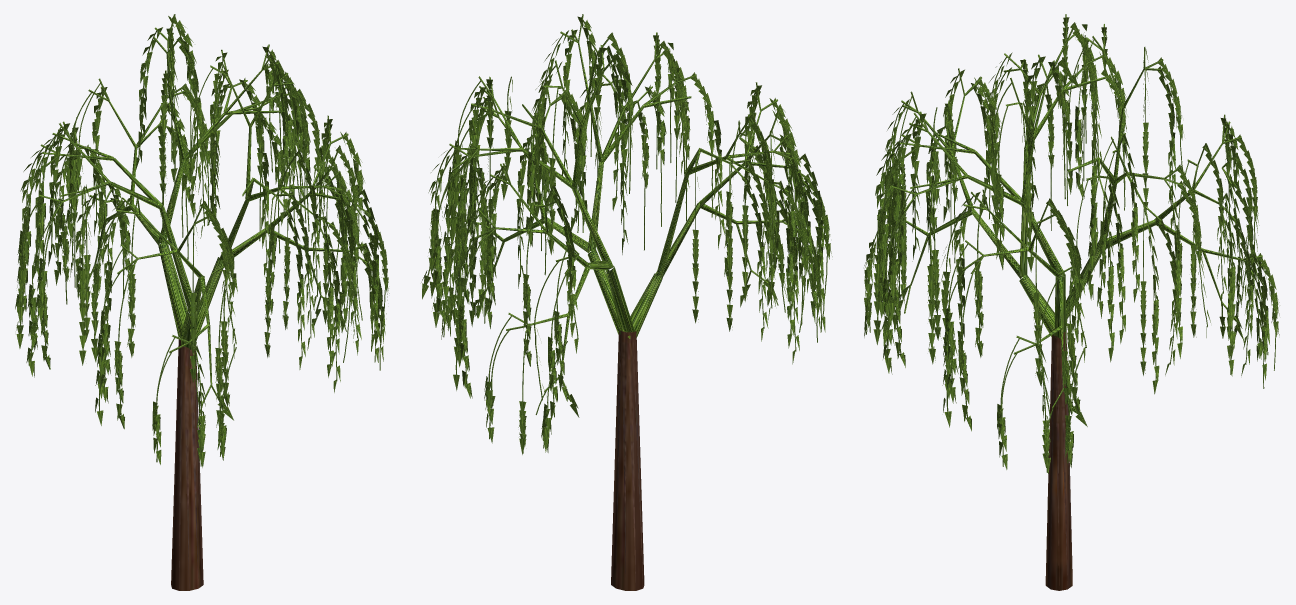
File: cay-duong-02.glb
3 views of the same model, side by side, from view 1: azimuth 30°, elevation 25°; view 2: azimuth 150°, elevation 25°; view 3: azimuth 270°, elevation 25° (orthographic). The views are drawn at different scales.
Bounding box in the file's own units: 5.03 × 7.23 × 4.96.
1 material, 1 textured.
